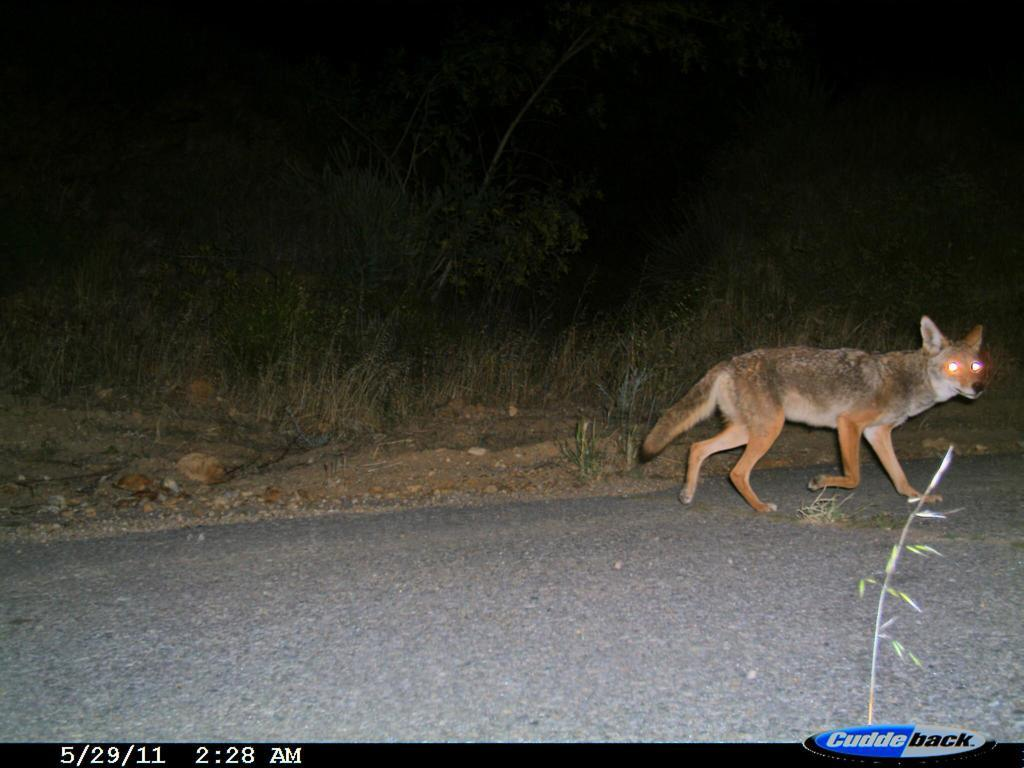coyote: (634, 310, 993, 520)
